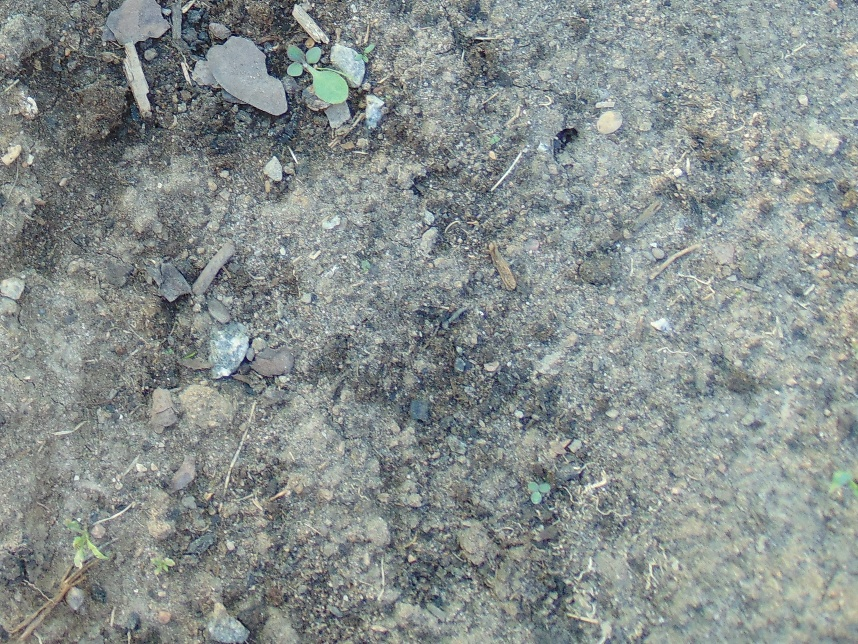weed: (287, 45, 349, 102), (70, 517, 102, 567), (528, 479, 549, 503)
